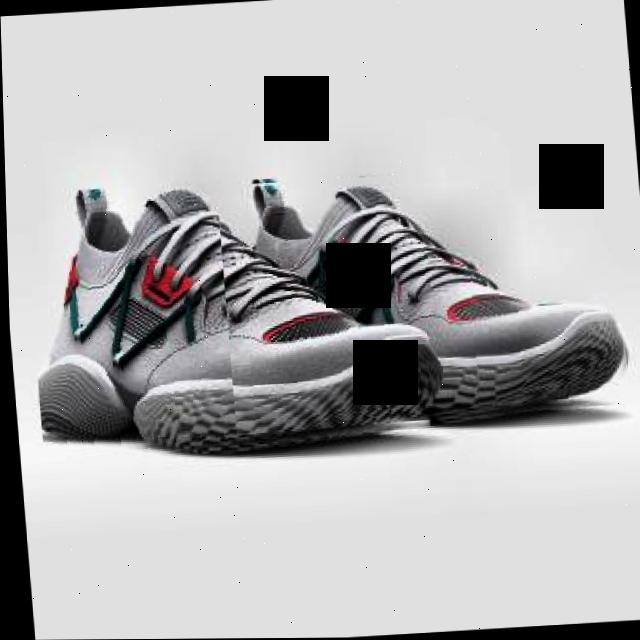shoe: (21, 170, 448, 465), (214, 163, 632, 436)
